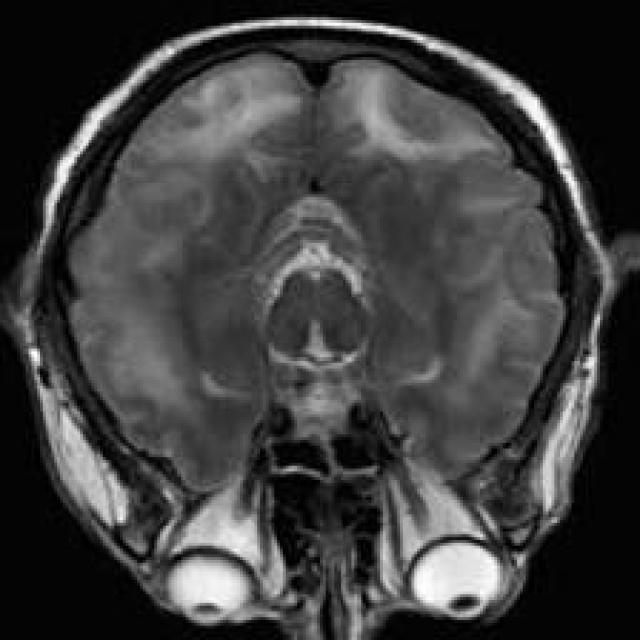no_tumor: (15, 15, 638, 640)
